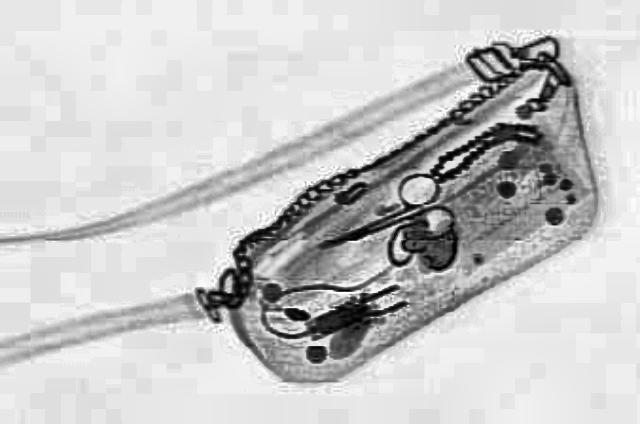Scissors: (288, 166, 480, 272)
